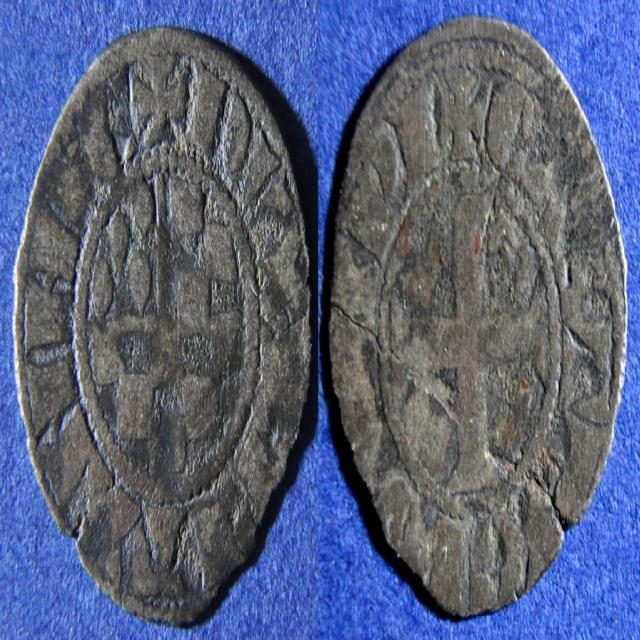Coin: (326, 18, 626, 612)
